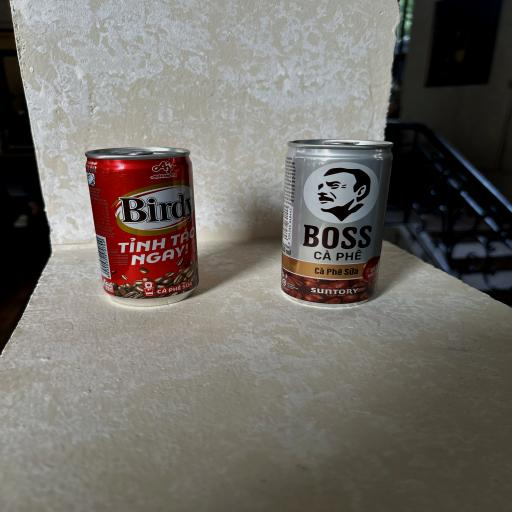birdy: (80, 144, 208, 312)
boss_coffee: (272, 137, 396, 307)
